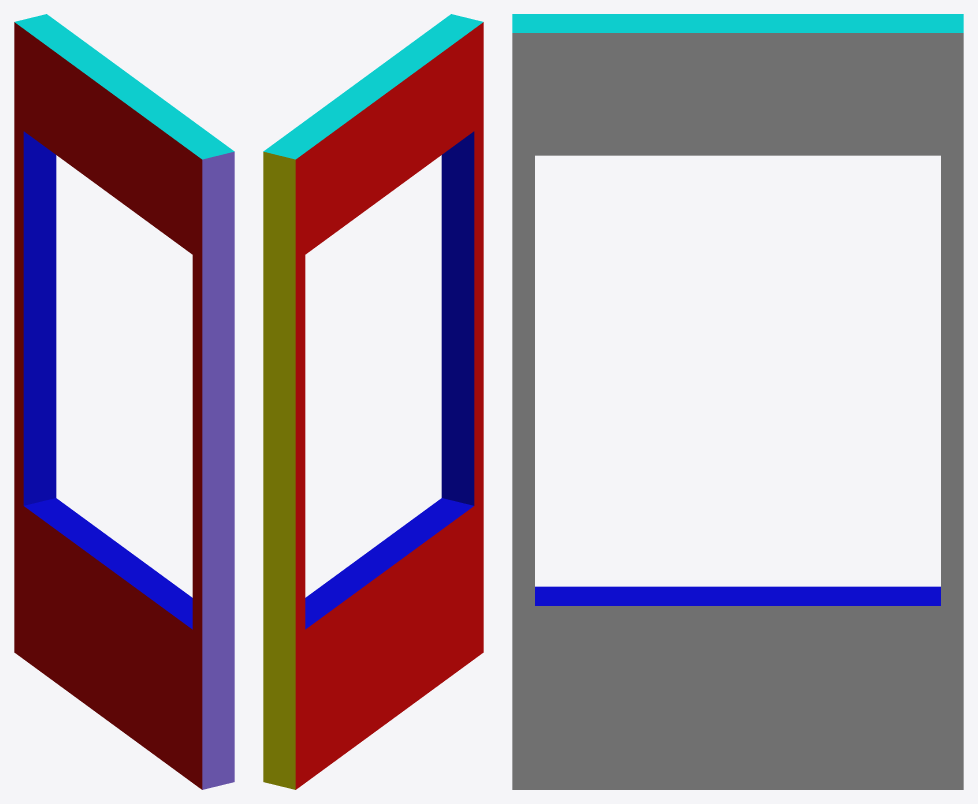
File: Mesh_Wall_06.FBX
3 renders of one model, left to right at view 1: azimuth 30°, elevation 25°; view 2: azimuth 150°, elevation 25°; view 3: azimuth 270°, elevation 25°, orthographic. The views are drawn at different scales.
Visible parts, largest first — view 1: Mesh_Wall_06; view 2: Mesh_Wall_06; view 3: Mesh_Wall_06.
Boxes of the visible parts, x1,y1,x2,y2 form: Mesh_Wall_06: (14,14,234,789); Mesh_Wall_06: (263,14,483,789); Mesh_Wall_06: (512,14,963,789).
Size of the model in its own units: 0.2 by 3.7 by 2.
